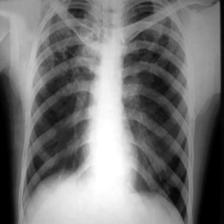tuberculosis: (19, 1, 190, 224)
